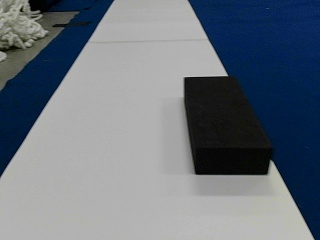block: (185, 77, 272, 174)
